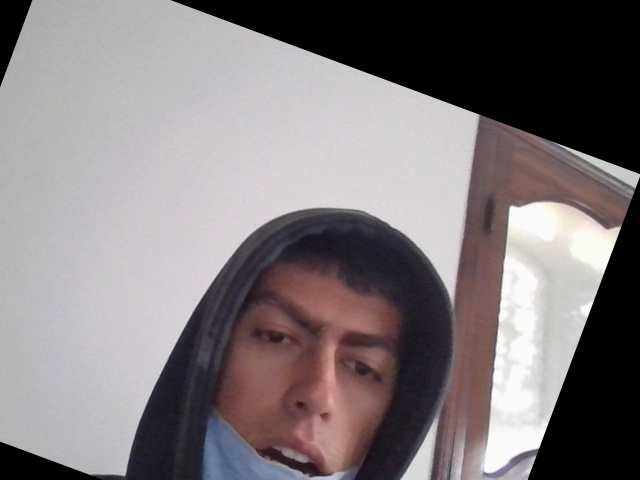mask_weared_incorrect: (204, 239, 406, 480)
